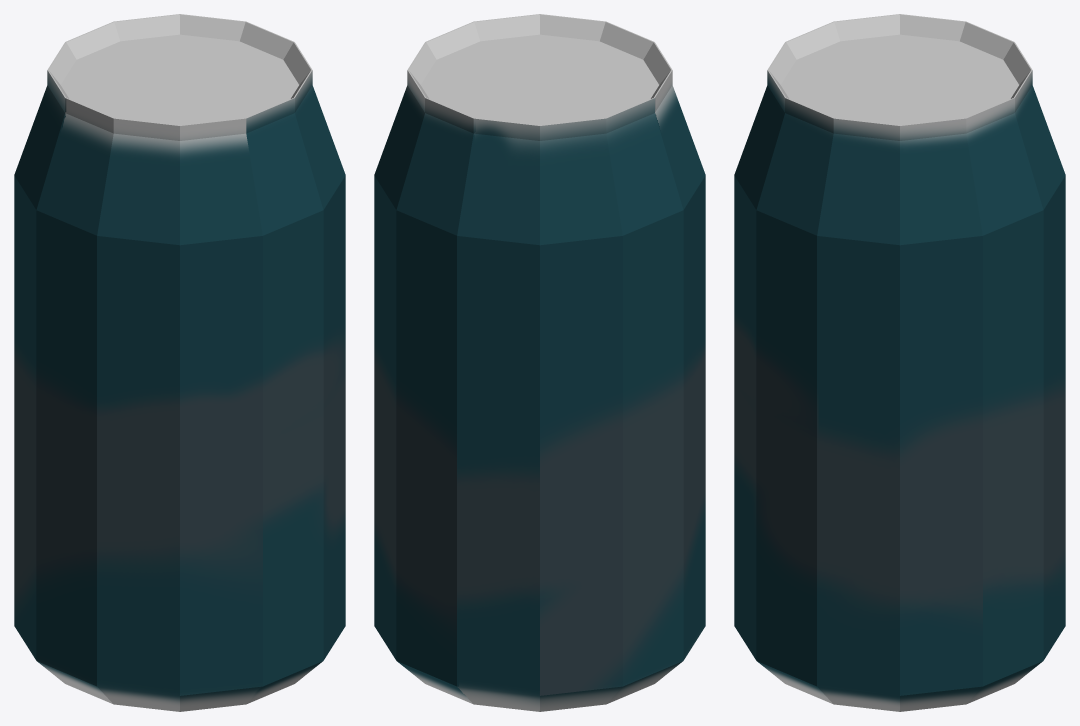
Rendered from bottle.glb.
The picture shows the model from 3 angles, left to right: view 1: azimuth 30°, elevation 25°; view 2: azimuth 150°, elevation 25°; view 3: azimuth 270°, elevation 25°; orthographic projection.
Parts seen in each view (by area): view 1: Cylinder; view 2: Cylinder; view 3: Cylinder.
Boxes of the visible parts, bbox=[...] form: Cylinder: bbox=[14, 14, 345, 711]; Cylinder: bbox=[374, 14, 705, 711]; Cylinder: bbox=[734, 14, 1065, 711].
Bounding box in the file's own units: 2 × 3.9 × 2.
Materials: 1 (1 with a texture image).
